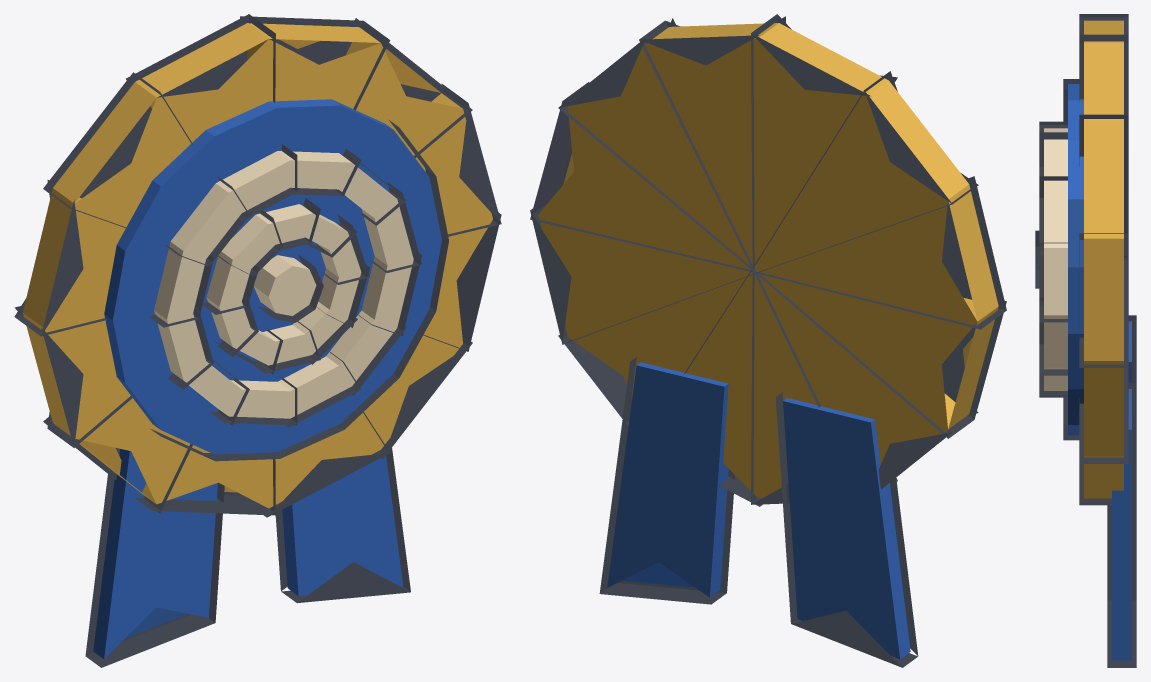
File: badge_sharpest_aim.glb
The picture shows the model from 3 angles, left to right: view 1: azimuth 30°, elevation 25°; view 2: azimuth 150°, elevation 25°; view 3: azimuth 270°, elevation 25°; orthographic projection. The views are drawn at different scales.
Parts seen in each view (by area): view 1: badge, ink_outline (×2), ribbon; view 2: badge, ribbon, ink_outline (×2); view 3: badge, ink_outline (×2), ribbon.
Part boxes in pixels (x1,y1,x2,y2): badge: (23,23,492,508); ink_outline (×2): (14,14,501,667); ribbon: (93,449,403,658); badge: (538,23,998,497); ribbon: (607,362,910,659); ink_outline (×2): (530,14,1006,667); badge: (1044,20,1123,498); ink_outline (×2): (1035,14,1136,667); ribbon: (1112,321,1131,660).
Size of the model in its own units: 0.0616 by 0.0775 by 0.0127.
